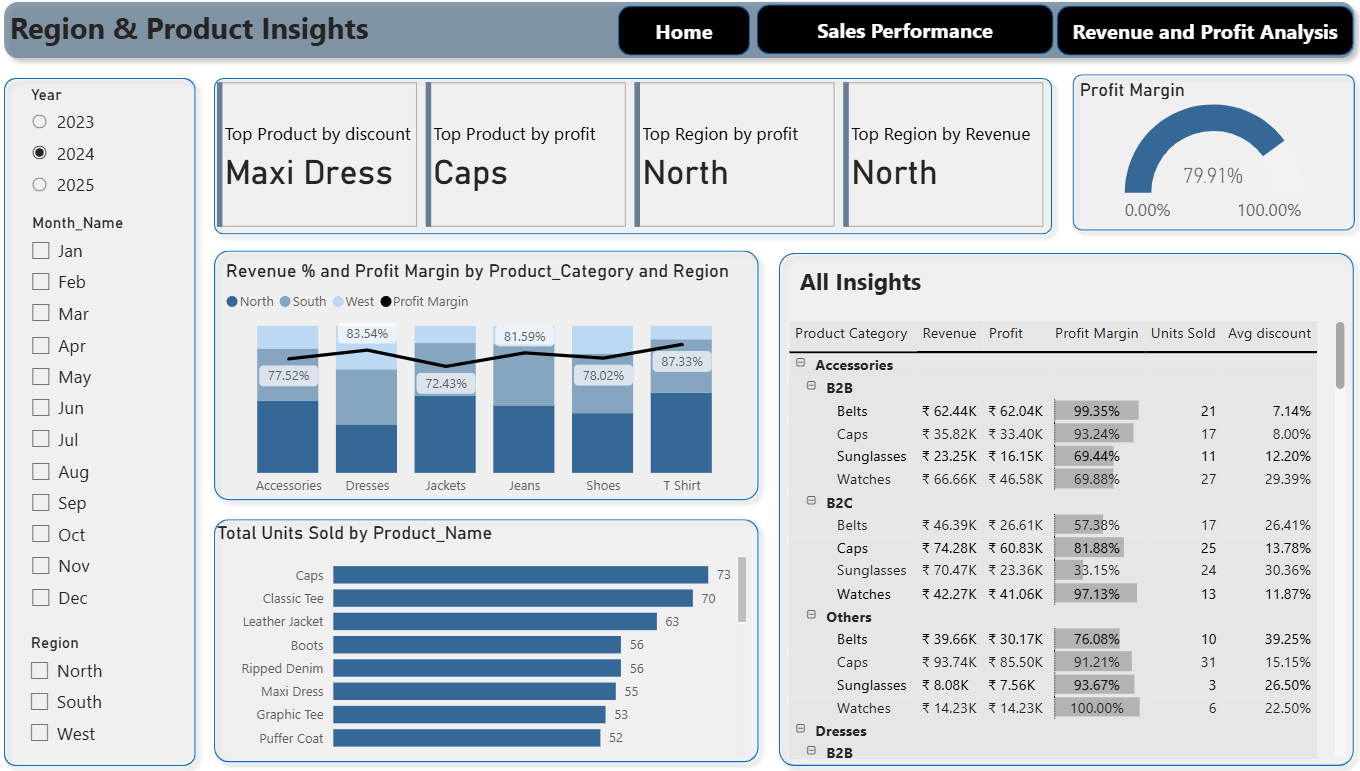

This screenshot's page, from the dashboard's own definition file:
{"tool":"powerbi","page":{"name":"Region & Product Insights","canvas":[1280,720],"ordinal":3},"visuals":[{"type":"shape","box":[204,69.7,788.7,161.7],"z":0},{"type":"shape","box":[10,69.7,194.1,650.6],"z":1000},{"type":"shape","box":[204,228.9,518.7,247.5],"z":2000},{"type":"shape","box":[723.5,231.2,546.5,489.6],"z":3000},{"type":"shape","box":[204,476.4,518.7,241.3],"z":4000},{"type":"shape","box":[10,0,1260,70],"z":5000},{"type":"slicer","fields":{"Values":["DateTable.Year"]},"box":[31.1,80.9,172.9,125.6],"z":6000},{"type":"textbox","box":[19.9,8.7,547.3,52.2],"z":11000},{"type":"lineStackedColumnComboChart","title":"Revenue % and Profit Margin by Product_Category and Region","fields":{"Category":["Snitch_Fashion_Sales_Uncleaned.Product_Category"],"Series":["Snitch_Fashion_Sales_Uncleaned.Region"],"Y2":["Key Measures.Profit Margin"],"Y":["Key Measures.Revenue % of Total"]},"box":[218.9,246.3,487.6,226.4],"z":12000},{"type":"barChart","fields":{"Category":["Snitch_Fashion_Sales_Uncleaned.Product_Name"],"Y":["Key Measures.Total Units Sold"]},"box":[210.2,487.6,496.3,221.4],"z":13000},{"type":"shape","box":[992.7,67.2,277.4,161.7],"z":14000},{"type":"pivotTable","fields":{"Rows":["Snitch_Fashion_Sales_Uncleaned.Product_Category","Snitch_Fashion_Sales_Uncleaned.Segment","Snitch_Fashion_Sales_Uncleaned.Product_Name"],"Values":["Key Measures.Total Revenue","Key Measures.Total Profit","Key Measures.Profit Margin","Key Measures.Total Units Sold","Key Measures.Avg discount"]},"box":[736.4,297.1,520.6,412.1],"z":15000},{"type":"slicer","fields":{"Values":["Snitch_Fashion_Sales_Uncleaned.Region"]},"box":[31.1,584.7,172.9,124.4],"z":16000},{"type":"slicer","fields":{"Values":["DateTable.Month_Name"]},"box":[32.3,199,172.9,420.5],"z":17000},{"type":"cardVisual","fields":{"Data":["Key Measures.Top Product by discount","Key Measures.Top Product by profit","Key Measures.Top Region by profit","Key Measures.Top Region by Revenue"]},"box":[210.2,78.4,772.5,143.1],"z":18000},{"type":"gauge","fields":{"Y":["Key Measures.Profit Margin"]},"box":[1003.8,78.8,255.8,142.1],"z":19000},{"type":"textbox","box":[746.4,246.3,436.6,41.1],"z":20000},{"type":"shape","box":[987.1,12.9,272.9,45.7],"z":20001},{"type":"shape","box":[711.4,11.4,272.9,45.7],"z":20003},{"type":"shape","box":[584.3,12.9,121.4,45.7],"z":20004}]}

Visuals, with their boxes in screenshot pixels (x1, y1, x2, y2), scaled from the page's 1280x720 canvas onto the 1360x771 screenshot:
shape: bbox=(217, 75, 1055, 248)
shape: bbox=(11, 75, 217, 770)
shape: bbox=(217, 245, 768, 510)
shape: bbox=(769, 248, 1349, 770)
shape: bbox=(217, 510, 768, 769)
shape: bbox=(11, 0, 1349, 75)
slicer - DateTable.Year: bbox=(33, 87, 217, 221)
textbox: bbox=(21, 9, 603, 65)
"Revenue % and Profit Margin by Product_Category and Region" lineStackedColumnComboChart: bbox=(233, 264, 751, 506)
barChart - Snitch_Fashion_Sales_Uncleaned.Product_Name x Key Measures.Total Units Sold: bbox=(223, 522, 751, 759)
shape: bbox=(1055, 72, 1349, 245)
pivotTable - Snitch_Fashion_Sales_Uncleaned.Product_Category x Snitch_Fashion_Sales_Uncleaned.Segment: bbox=(782, 318, 1336, 759)
slicer - Snitch_Fashion_Sales_Uncleaned.Region: bbox=(33, 626, 217, 759)
slicer - DateTable.Month_Name: bbox=(34, 213, 218, 663)
cardVisual - Key Measures.Top Product by discount x Key Measures.Top Product by profit: bbox=(223, 84, 1044, 237)
gauge - Key Measures.Profit Margin: bbox=(1067, 84, 1338, 237)
textbox: bbox=(793, 264, 1257, 308)
shape: bbox=(1049, 14, 1339, 63)
shape: bbox=(756, 12, 1046, 61)
shape: bbox=(621, 14, 750, 63)
